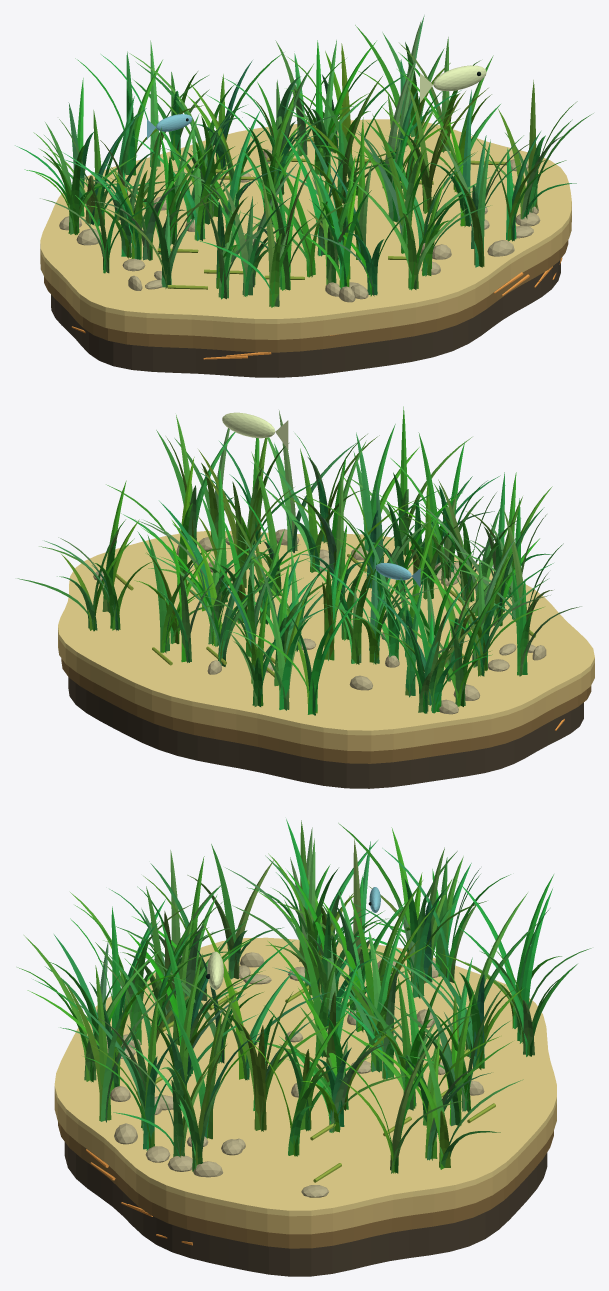
The model's file is seagrass.glb.
3 renders of one model, top to bottom at view 1: azimuth 30°, elevation 25°; view 2: azimuth 150°, elevation 25°; view 3: azimuth 270°, elevation 25°, orthographic. The views are drawn at different scales.
Parts seen in each view (by area): view 1: seagrass habitat; view 2: seagrass habitat; view 3: seagrass habitat.
Boxes of the visible parts, bbox=[...] form: seagrass habitat: bbox=[15, 15, 593, 377]; seagrass habitat: bbox=[17, 406, 594, 788]; seagrass habitat: bbox=[17, 819, 591, 1276].
Size of the model in its own units: 1.8 by 0.7498 by 1.55.
Materials: 1 (1 with a texture image).
